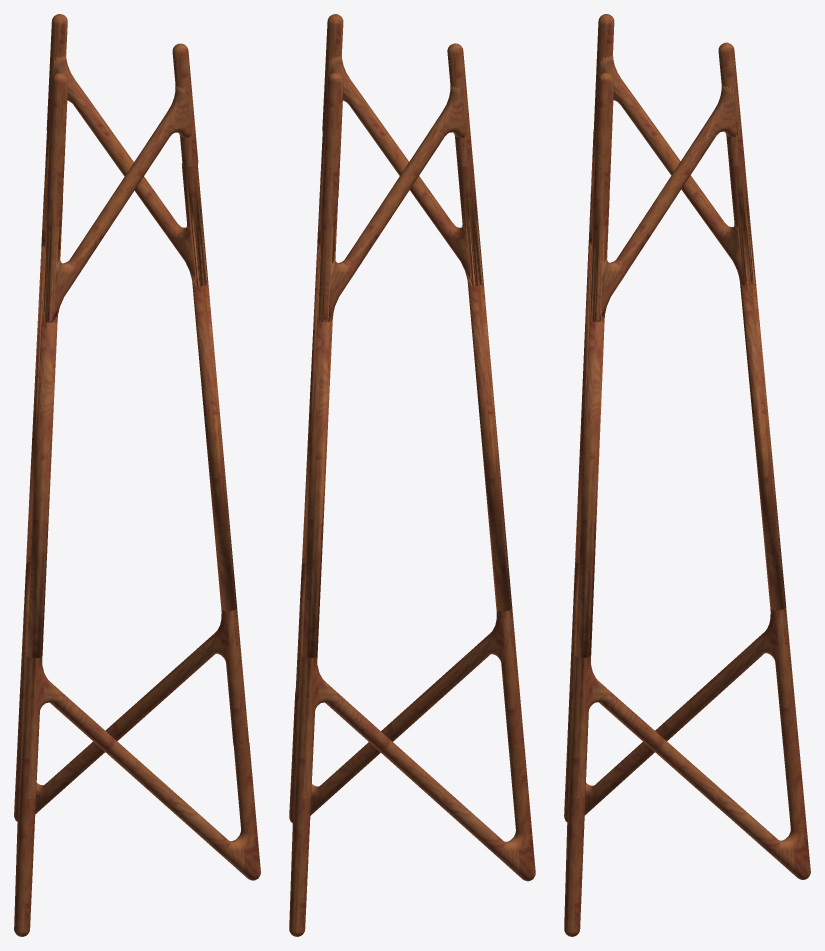
3 views of the same model, side by side, from view 1: azimuth 30°, elevation 25°; view 2: azimuth 150°, elevation 25°; view 3: azimuth 270°, elevation 25° (orthographic).
Size of the model in its own units: 0.5509 by 1.8 by 0.4815.
Materials: 1 (1 with a texture image).
